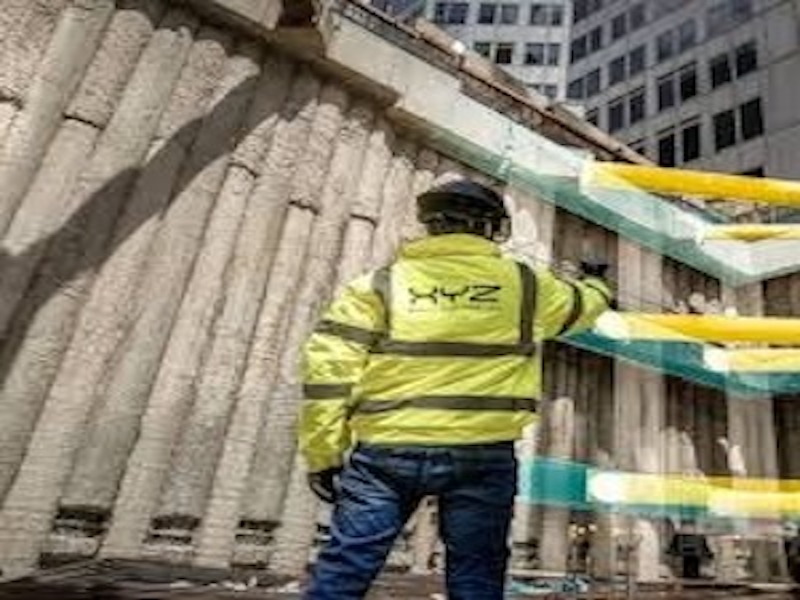safety: (413, 177, 517, 225)
vest: (303, 235, 609, 450)
